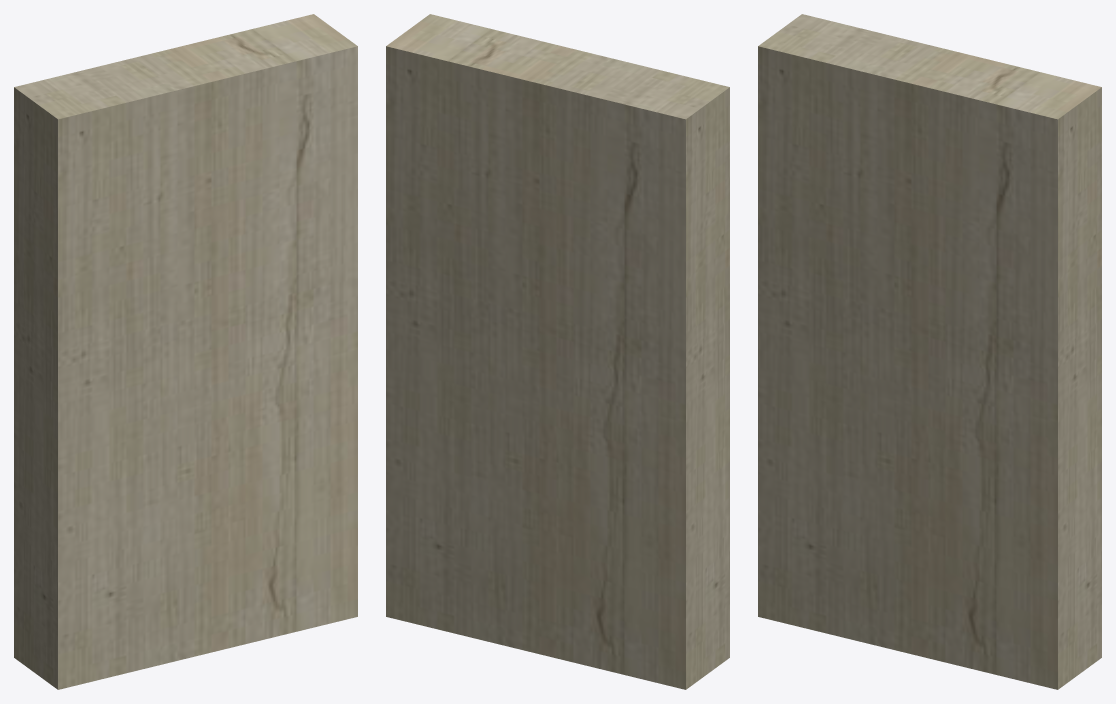
File: door_shielded.glb
3 views of the same model, side by side, from view 1: azimuth 30°, elevation 25°; view 2: azimuth 150°, elevation 25°; view 3: azimuth 330°, elevation 25° (orthographic).
Visible parts, largest first — view 1: door; view 2: door; view 3: door.
Part boxes in pixels (<box>): door: <box>14,14,357,689</box>; door: <box>386,14,729,689</box>; door: <box>758,14,1101,689</box>.
Bounding box in the file's own units: 0.55 × 1 × 0.14.
Materials: 1 (1 with a texture image).
